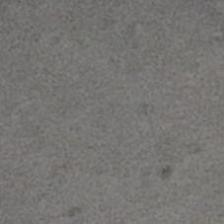Non_Crack: (9, 2, 215, 213)
